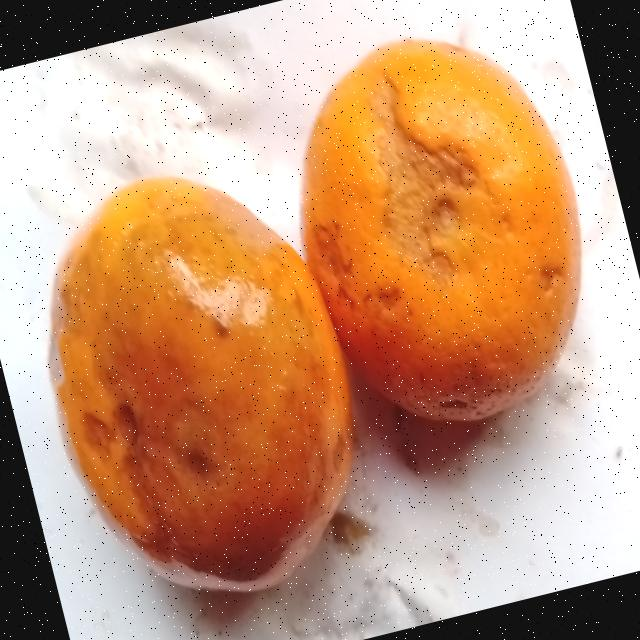Rotten: (4, 138, 394, 628), (258, 7, 623, 452)
